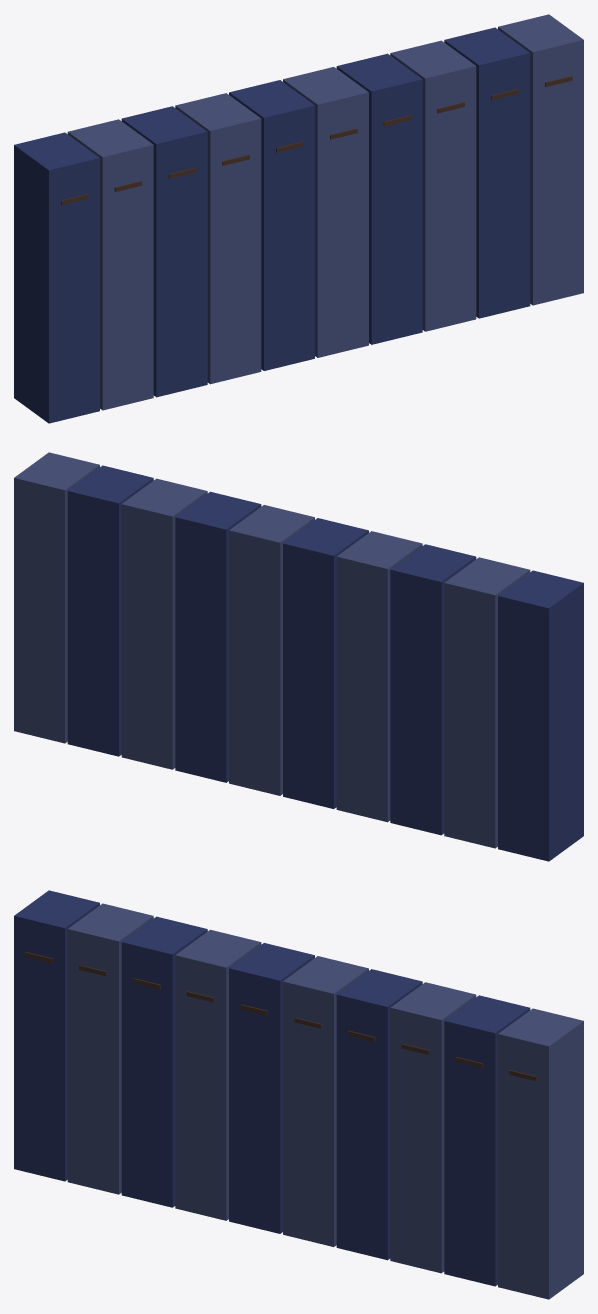
The model's file is high_lockers.glb.
3 renders of one model, top to bottom at view 1: azimuth 30°, elevation 25°; view 2: azimuth 150°, elevation 25°; view 3: azimuth 330°, elevation 25°, orthographic.
Parts seen in each view (by area): view 1: Box1, Box15, Box7, Box17, Box5, Box13, Box19, Box3, Box9, Box11; view 2: Box1, Box5, Box15, Box17, Box7, Box13, Box19, Box3, Box11, Box9; view 3: Box19, Box5, Box3, Box13, Box15, Box7, Box1, Box11, Box17, Box9.
Part boxes in pixels (left/top/right/bottom): Box1: left=14, top=132, right=99, bottom=423; Box15: left=390, top=40, right=476, bottom=331; Box7: left=175, top=93, right=261, bottom=384; Box17: left=444, top=27, right=530, bottom=318; Box5: left=121, top=106, right=207, bottom=397; Box13: left=336, top=53, right=422, bottom=344; Box19: left=498, top=14, right=583, bottom=305; Box3: left=67, top=119, right=153, bottom=410; Box9: left=229, top=80, right=314, bottom=370; Box11: left=283, top=67, right=368, bottom=357; Box1: left=498, top=570, right=583, bottom=861; Box5: left=390, top=544, right=476, bottom=835; Box15: left=121, top=478, right=207, bottom=769; Box17: left=67, top=465, right=153, bottom=756; Box7: left=336, top=531, right=422, bottom=822; Box13: left=175, top=491, right=261, bottom=782; Box19: left=14, top=452, right=99, bottom=743; Box3: left=444, top=557, right=530, bottom=848; Box11: left=229, top=505, right=314, bottom=795; Box9: left=283, top=518, right=368, bottom=808; Box19: left=498, top=1008, right=583, bottom=1299; Box5: left=121, top=916, right=207, bottom=1207; Box3: left=67, top=903, right=153, bottom=1194; Box13: left=336, top=969, right=422, bottom=1260; Box15: left=390, top=982, right=476, bottom=1273; Box7: left=175, top=929, right=261, bottom=1220; Box1: left=14, top=890, right=99, bottom=1181; Box11: left=283, top=956, right=368, bottom=1246; Box17: left=444, top=995, right=530, bottom=1286; Box9: left=229, top=943, right=314, bottom=1233.
Size of the model in its own units: 3.98 by 1.8 by 0.46.
